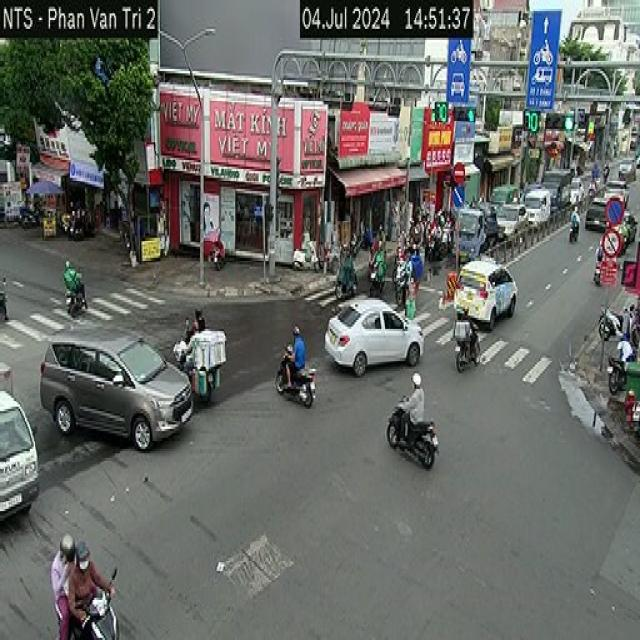Green: (545, 109, 577, 136), (450, 102, 479, 128)
